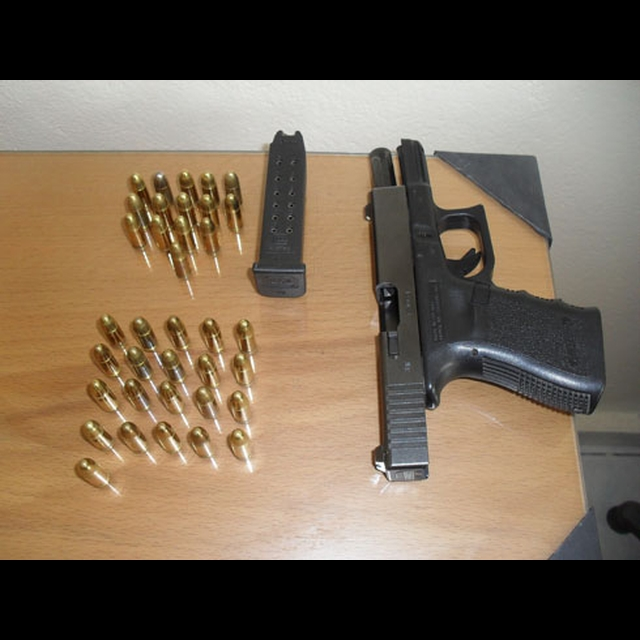SILAH: (349, 125, 611, 498)
